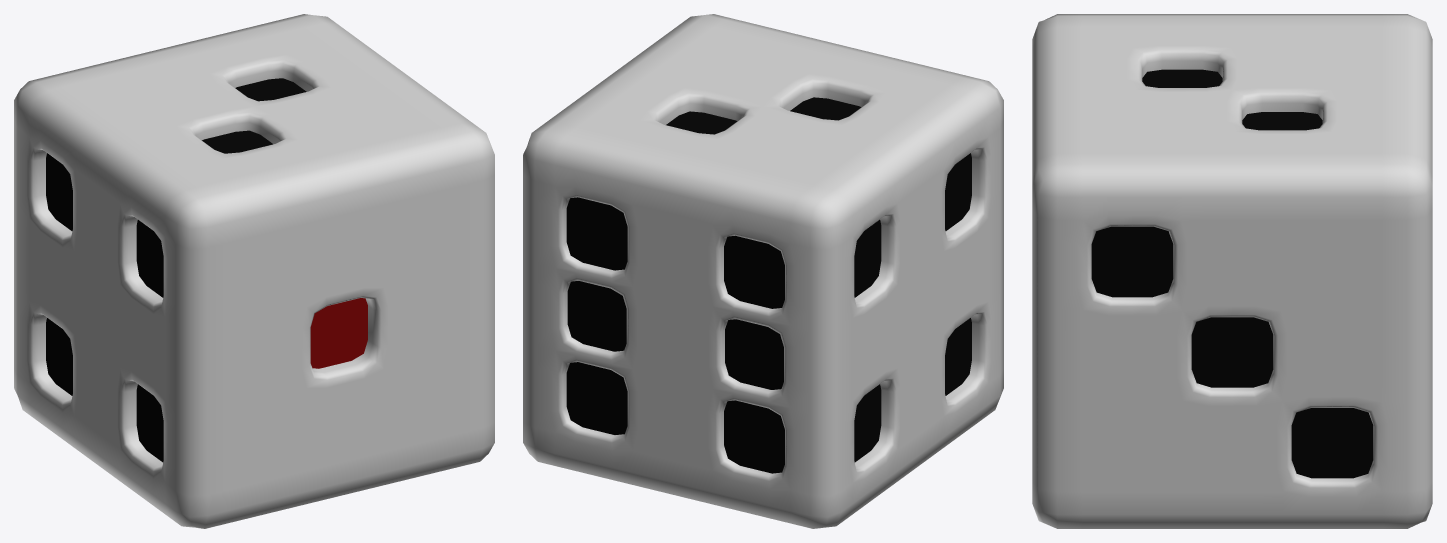
File: Dice.fbx
3 renders of one model, left to right at view 1: azimuth 30°, elevation 25°; view 2: azimuth 150°, elevation 25°; view 3: azimuth 270°, elevation 25°, orthographic. The views are drawn at different scales.
Visible parts, largest first — view 1: six; view 2: six; view 3: six.
Boxes of the visible parts, bbox=[...] form: six: bbox=[14, 14, 494, 528]; six: bbox=[523, 14, 1003, 528]; six: bbox=[1032, 14, 1432, 528].
Size of the model in its own units: 70 by 70 by 70.
